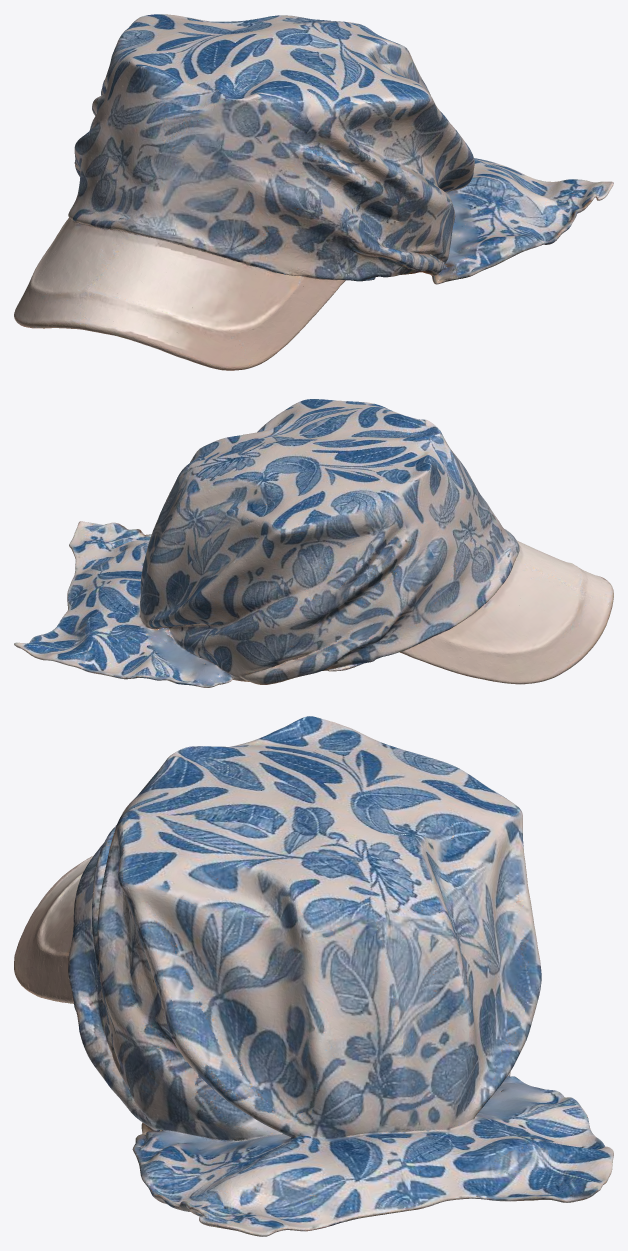
Rendered from cap.glb.
3 renders of one model, top to bottom at view 1: azimuth 30°, elevation 25°; view 2: azimuth 150°, elevation 25°; view 3: azimuth 270°, elevation 25°, orthographic. The views are drawn at different scales.
Visible parts, largest first — view 1: geometry_0; view 2: geometry_0; view 3: geometry_0.
Boxes of the visible parts, x1=… form: geometry_0: x1=14, y1=14, x2=613, y2=370; geometry_0: x1=14, y1=399, x2=613, y2=687; geometry_0: x1=14, y1=716, x2=613, y2=1236.
Bounding box in the file's own units: 1.99 × 0.7345 × 1.42.
1 material, 1 textured.
